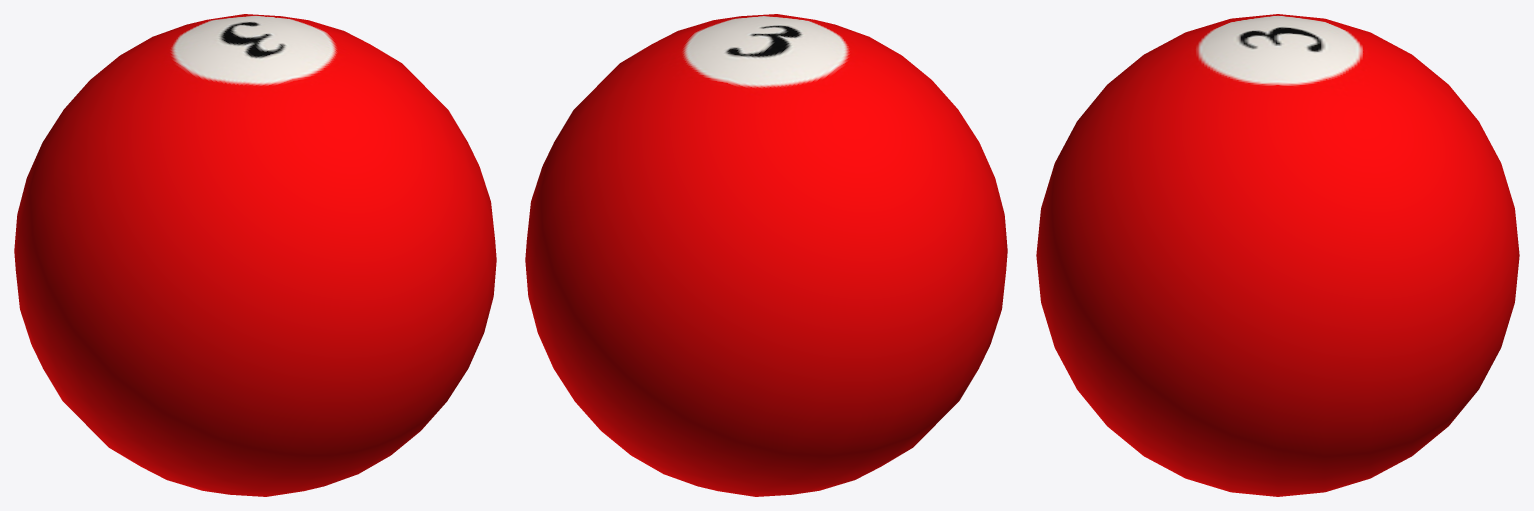
The model's file is Billiard Ball 3.glb.
The picture shows the model from 3 angles, left to right: view 1: azimuth 30°, elevation 25°; view 2: azimuth 150°, elevation 25°; view 3: azimuth 270°, elevation 25°; orthographic projection.
Parts seen in each view (by area): view 1: Ball3_03 - Default_0; view 2: Ball3_03 - Default_0; view 3: Ball3_03 - Default_0.
Part boxes in pixels (box(x1,y1,x2,y2)): Ball3_03 - Default_0: box(14, 14, 496, 496); Ball3_03 - Default_0: box(525, 14, 1007, 496); Ball3_03 - Default_0: box(1036, 14, 1519, 496).
Bounding box in the file's own units: 37.86 × 37.86 × 37.86.
Materials: 1 (1 with a texture image).
